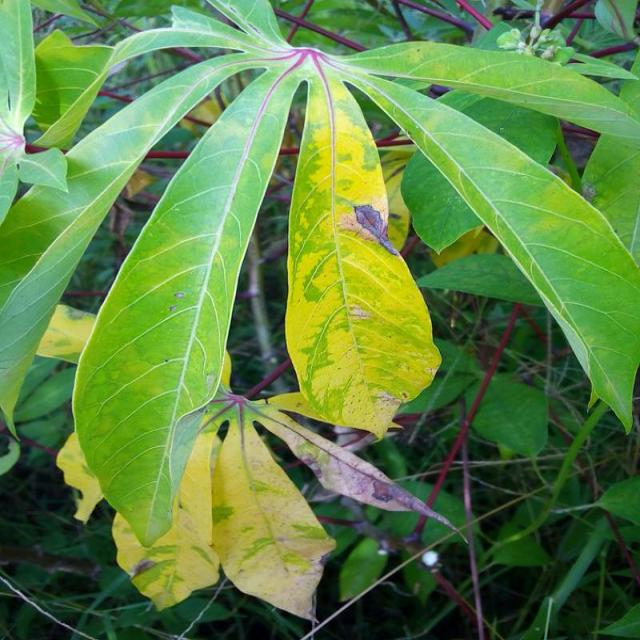cassava leaf: (2, 1, 640, 624), (71, 50, 308, 547), (284, 58, 443, 440)
